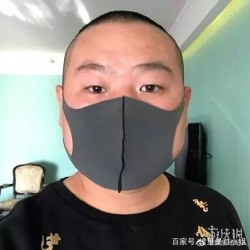mask: (57, 75, 187, 190)
